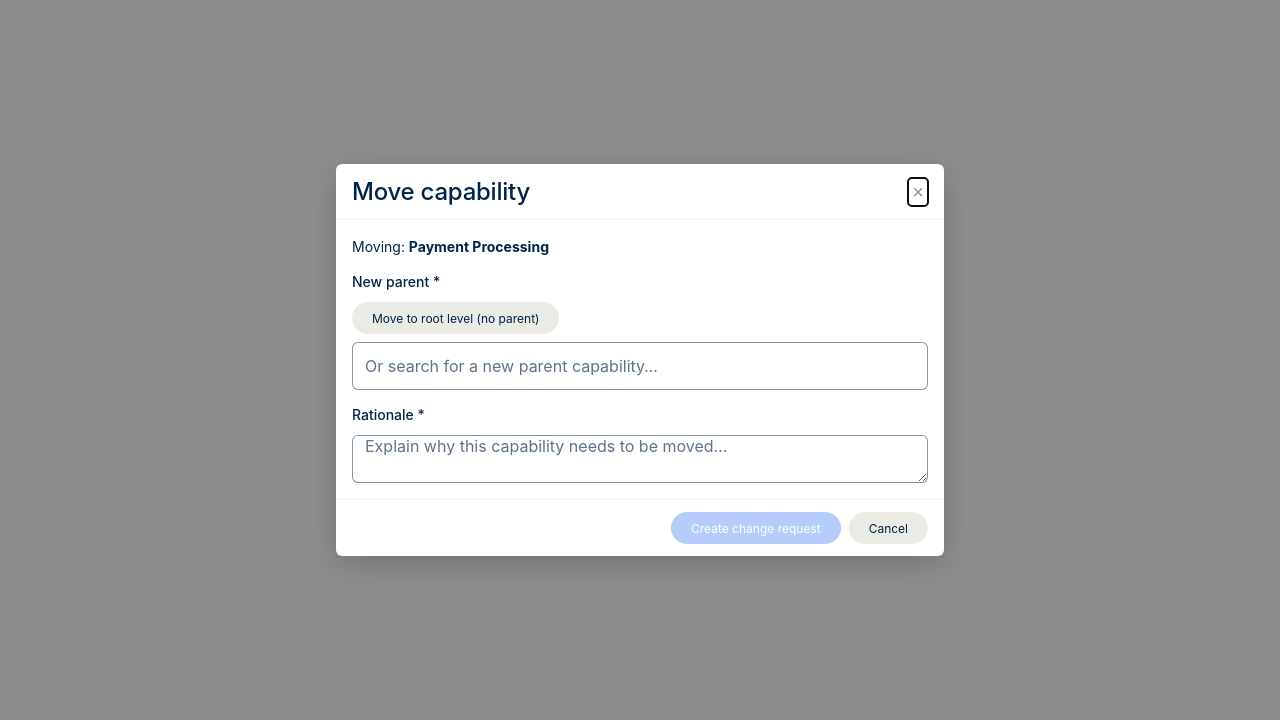
it: ReparentDialog › should show a rationale validation error when submitted without rationale
The width and height of the screenshot is (1280, 720).
Click the button "Move to root level (no parent)": x=456, y=318 [352, 302, 560, 334]
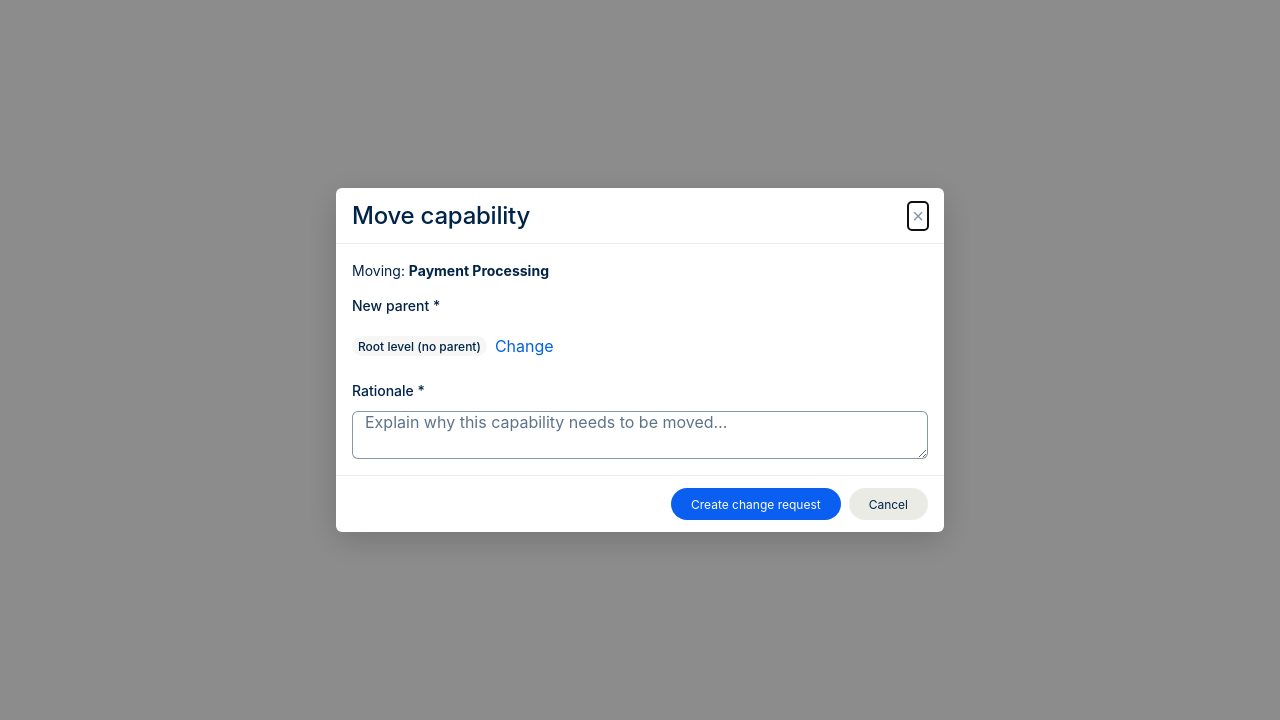
Click the button "Create change request": x=756, y=504 [671, 488, 841, 520]
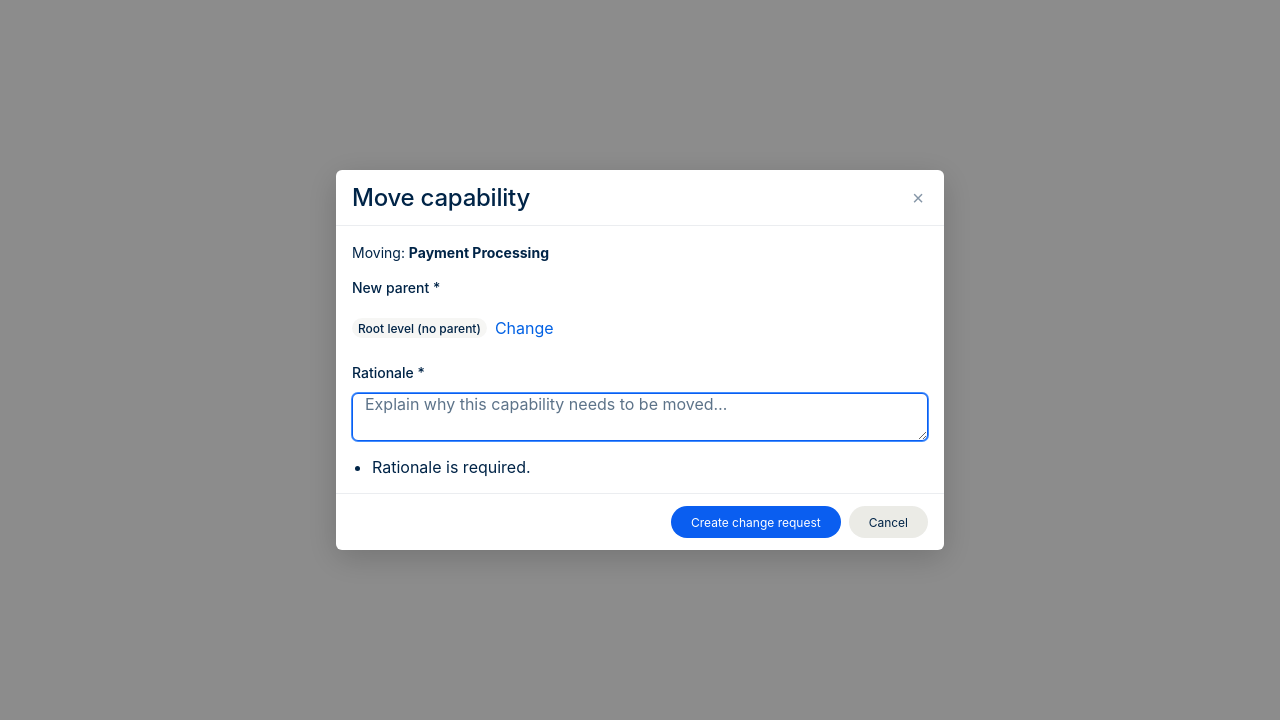
Result: the message shows "Rationale is required" at [372, 457, 531, 477]
